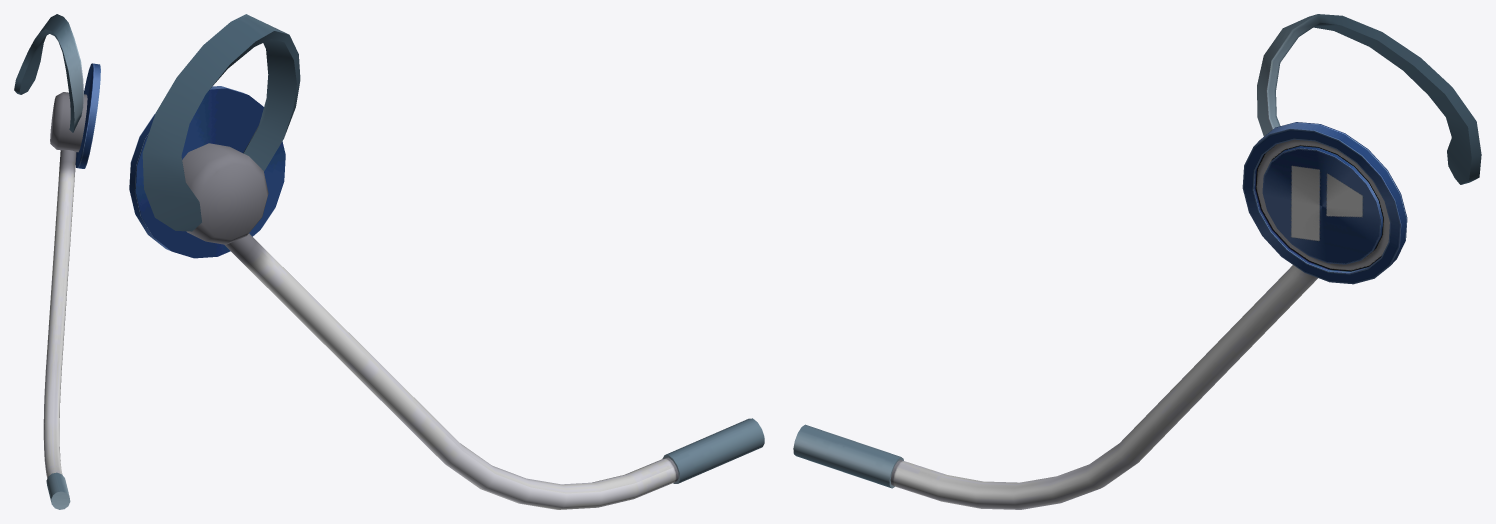
File: EntrainingIntercomHajime.fbx
3 views of the same model, side by side, from view 1: azimuth 30°, elevation 25°; view 2: azimuth 150°, elevation 25°; view 3: azimuth 270°, elevation 25° (orthographic). The views are drawn at different scales.
Parts seen in each view (by area): view 1: EntrainingIntercomHajime; view 2: EntrainingIntercomHajime; view 3: EntrainingIntercomHajime.
Part boxes in pixels (x1,y1,x2,y2): EntrainingIntercomHajime: (14, 14, 100, 509); EntrainingIntercomHajime: (129, 14, 764, 509); EntrainingIntercomHajime: (793, 14, 1481, 509).
Bounding box in the file's own units: 0.0516 × 0.0793 × 0.0838.
Materials: 1 (1 with a texture image).
